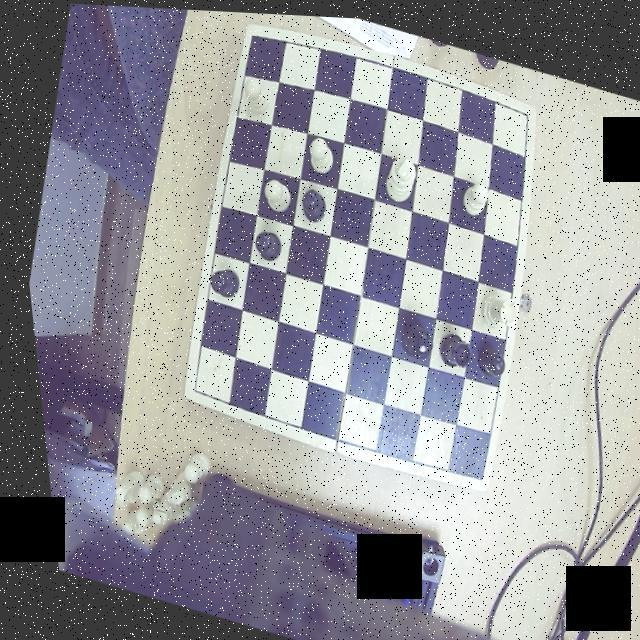chess-table-corners: (454, 455, 482, 485), (175, 376, 203, 404), (240, 19, 264, 51), (508, 95, 533, 122)
